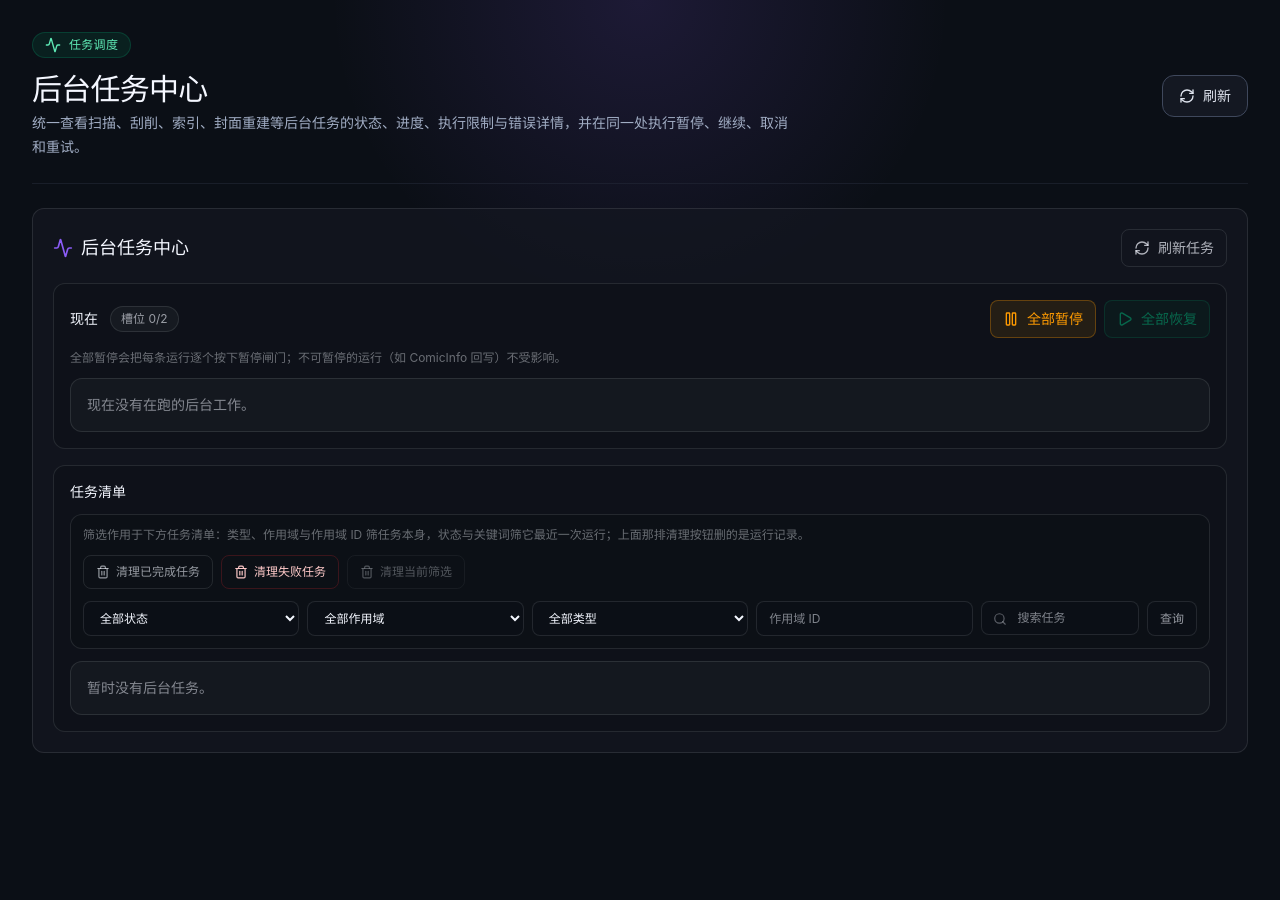
Test case: 任务中心的搜索框 › 慢网下先提交的关键词响应后到，不会盖掉后提交那一次的结果
The width and height of the screenshot is (1280, 900).
Type "sca" into the field with placeholder "搜索任务".
click(1060, 618); type("sca")  # box [981,601,1139,635]
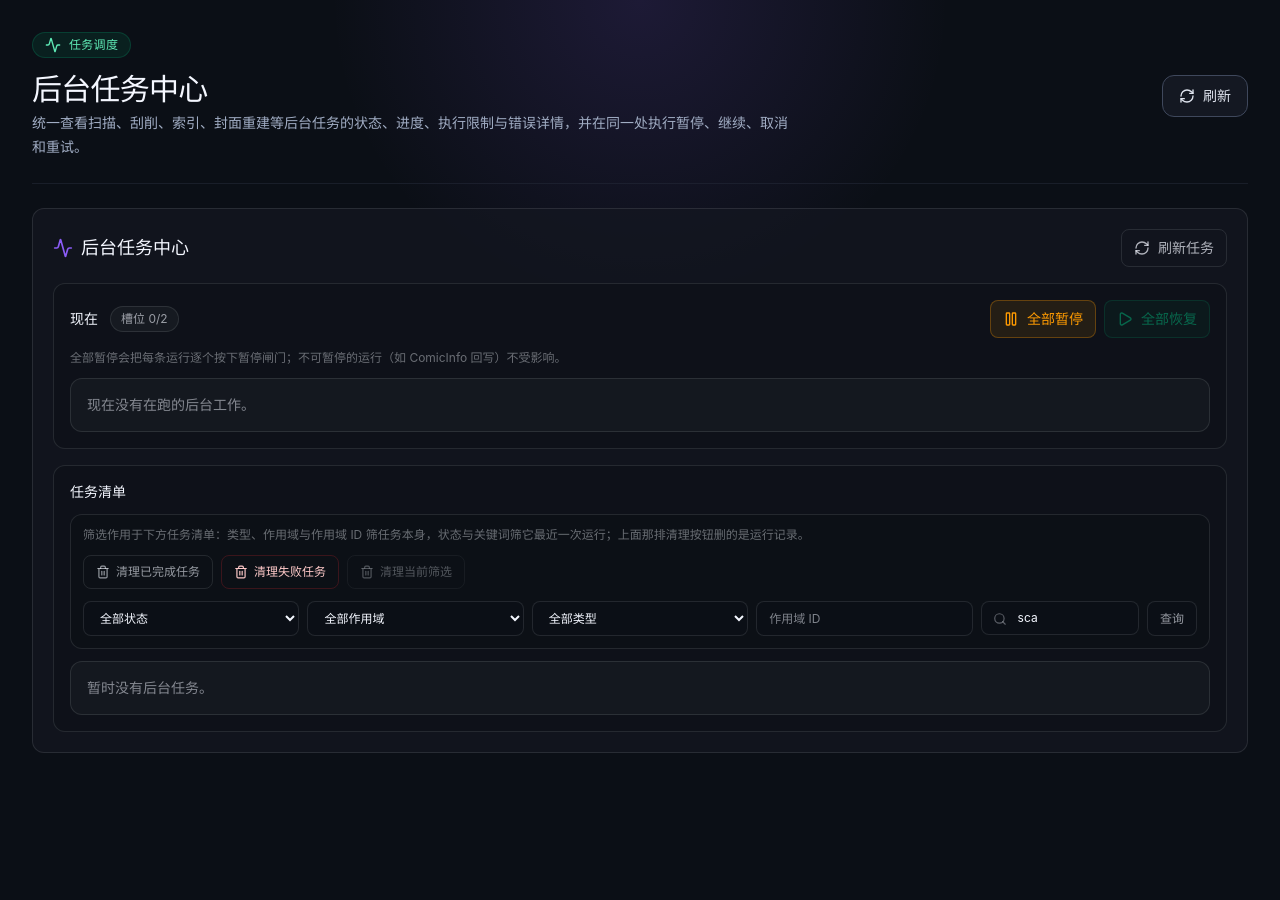
Press Enter in the field with placeholder "搜索任务", box [981,601,1139,635]
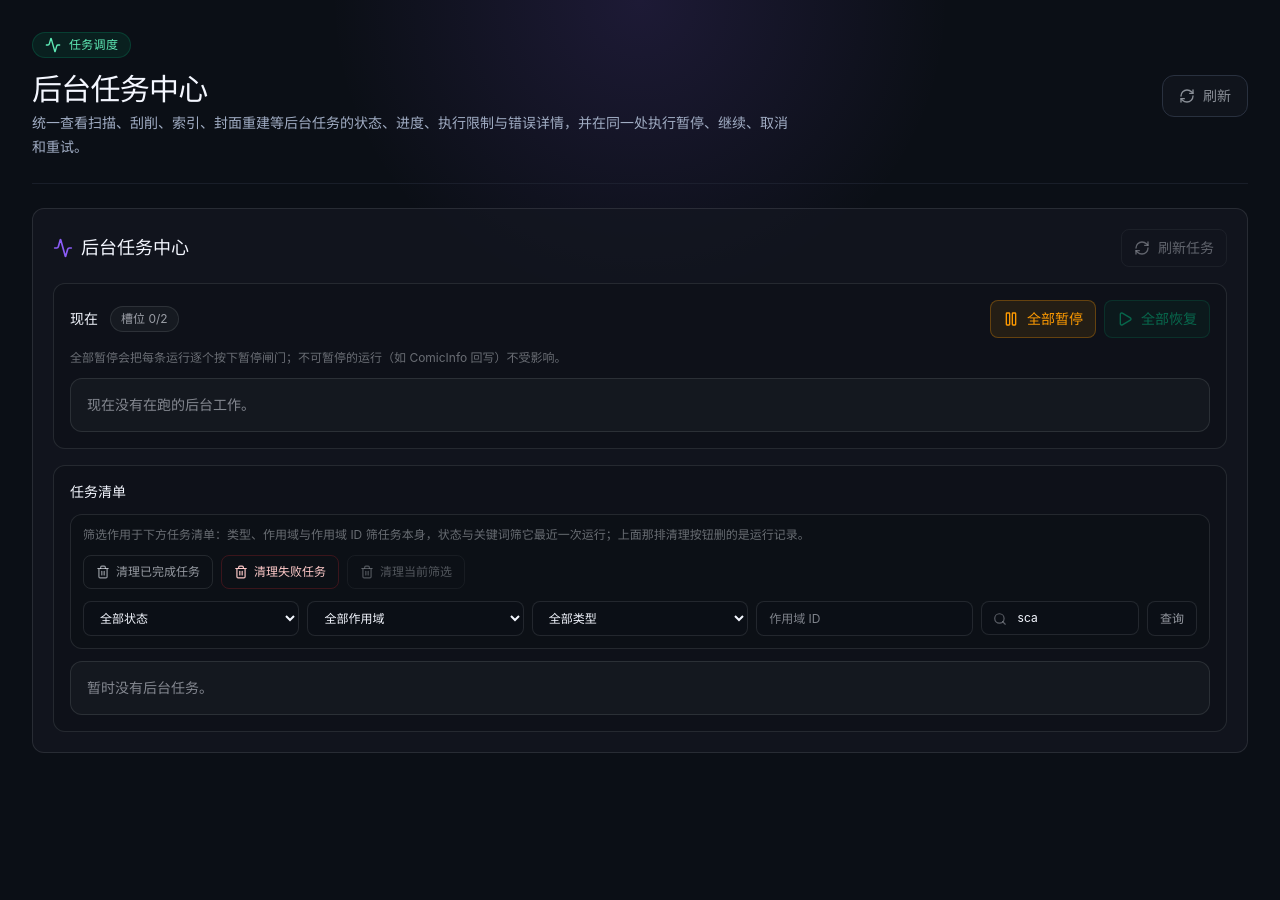
Replace the text in the field with placeholder "搜索任务" with "scan" at (1060, 618), box [981,601,1139,635]
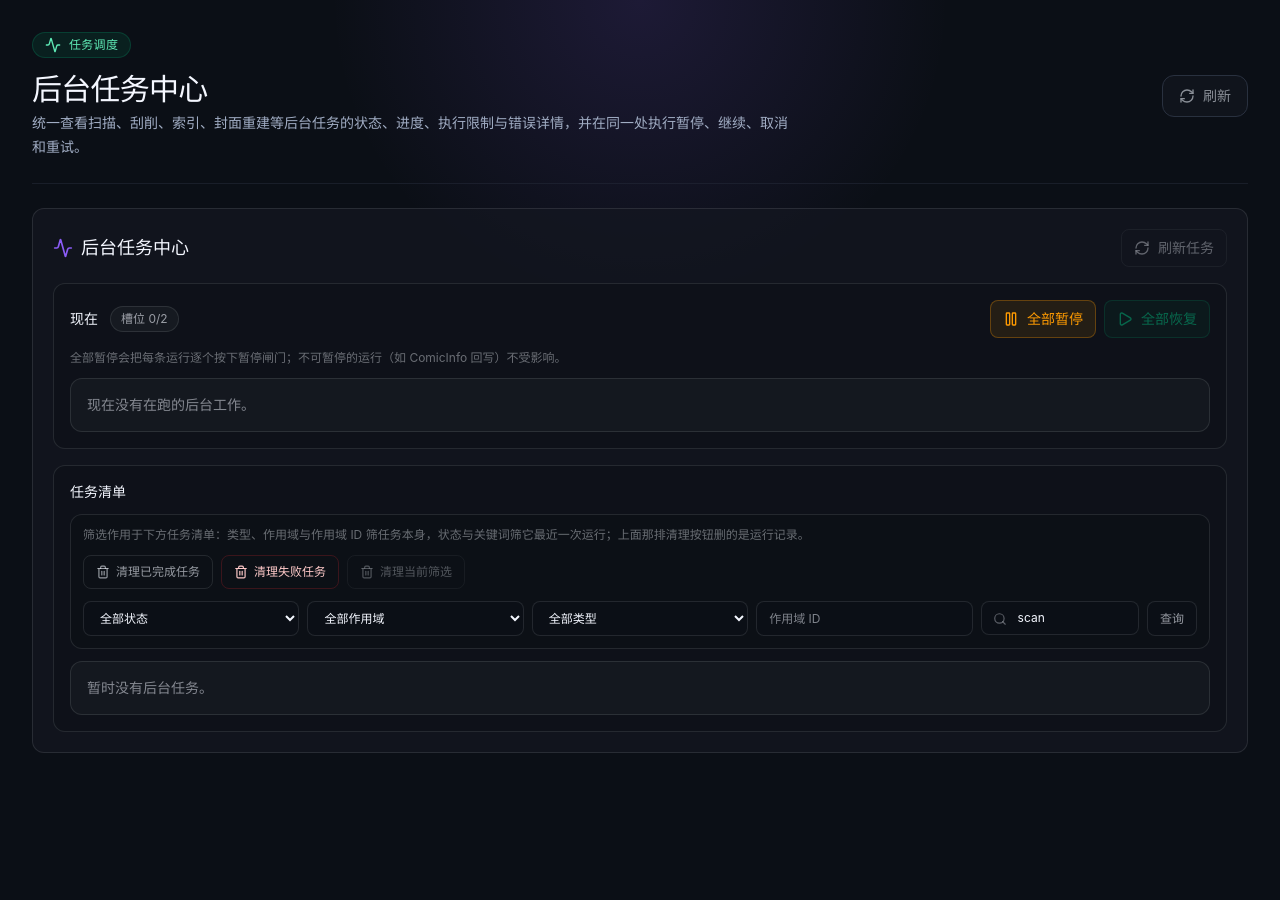
Press Enter in the field with placeholder "搜索任务", box [981,601,1139,635]
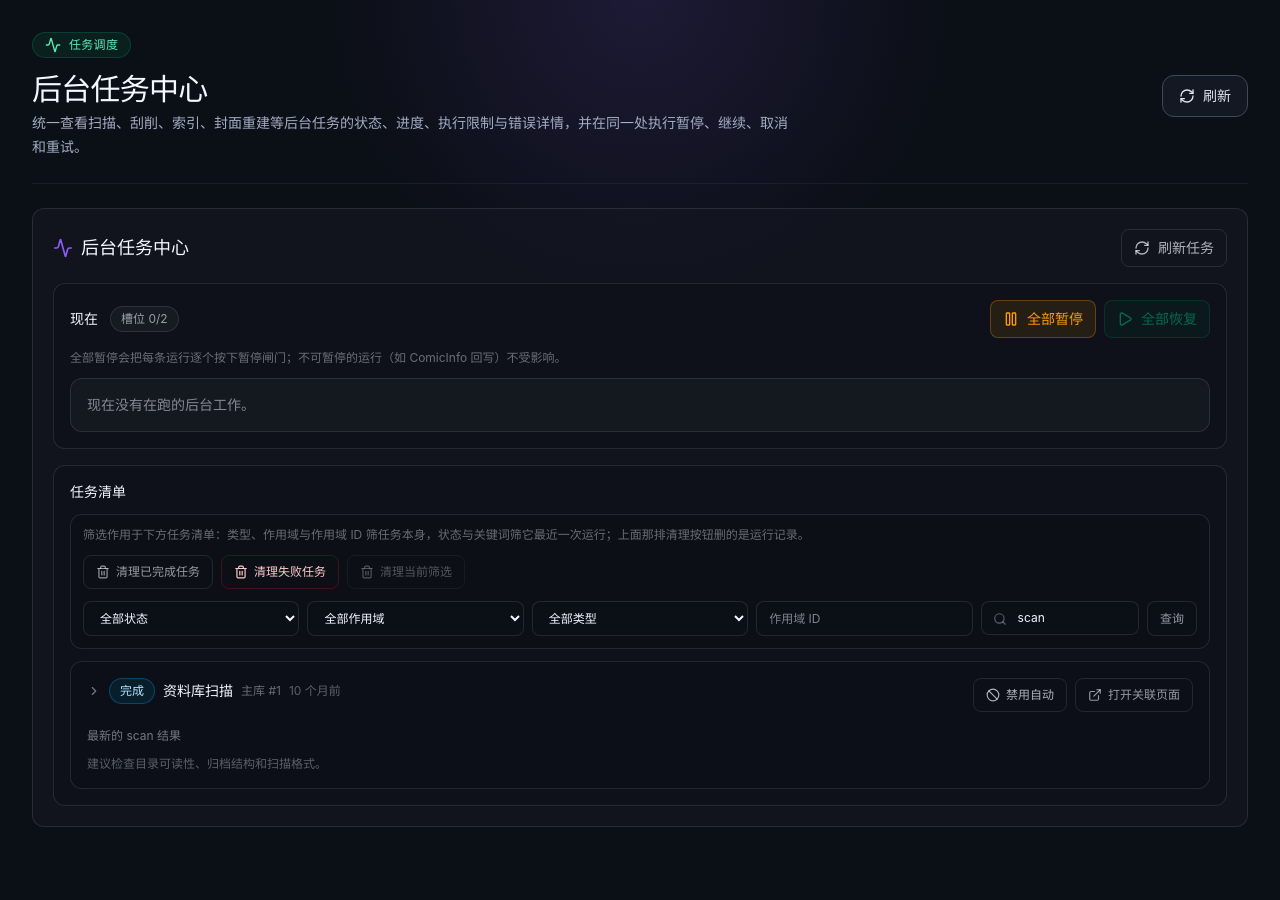
Expected: the text "最新的 scan 结果" is shown, [87,728,181,743]
